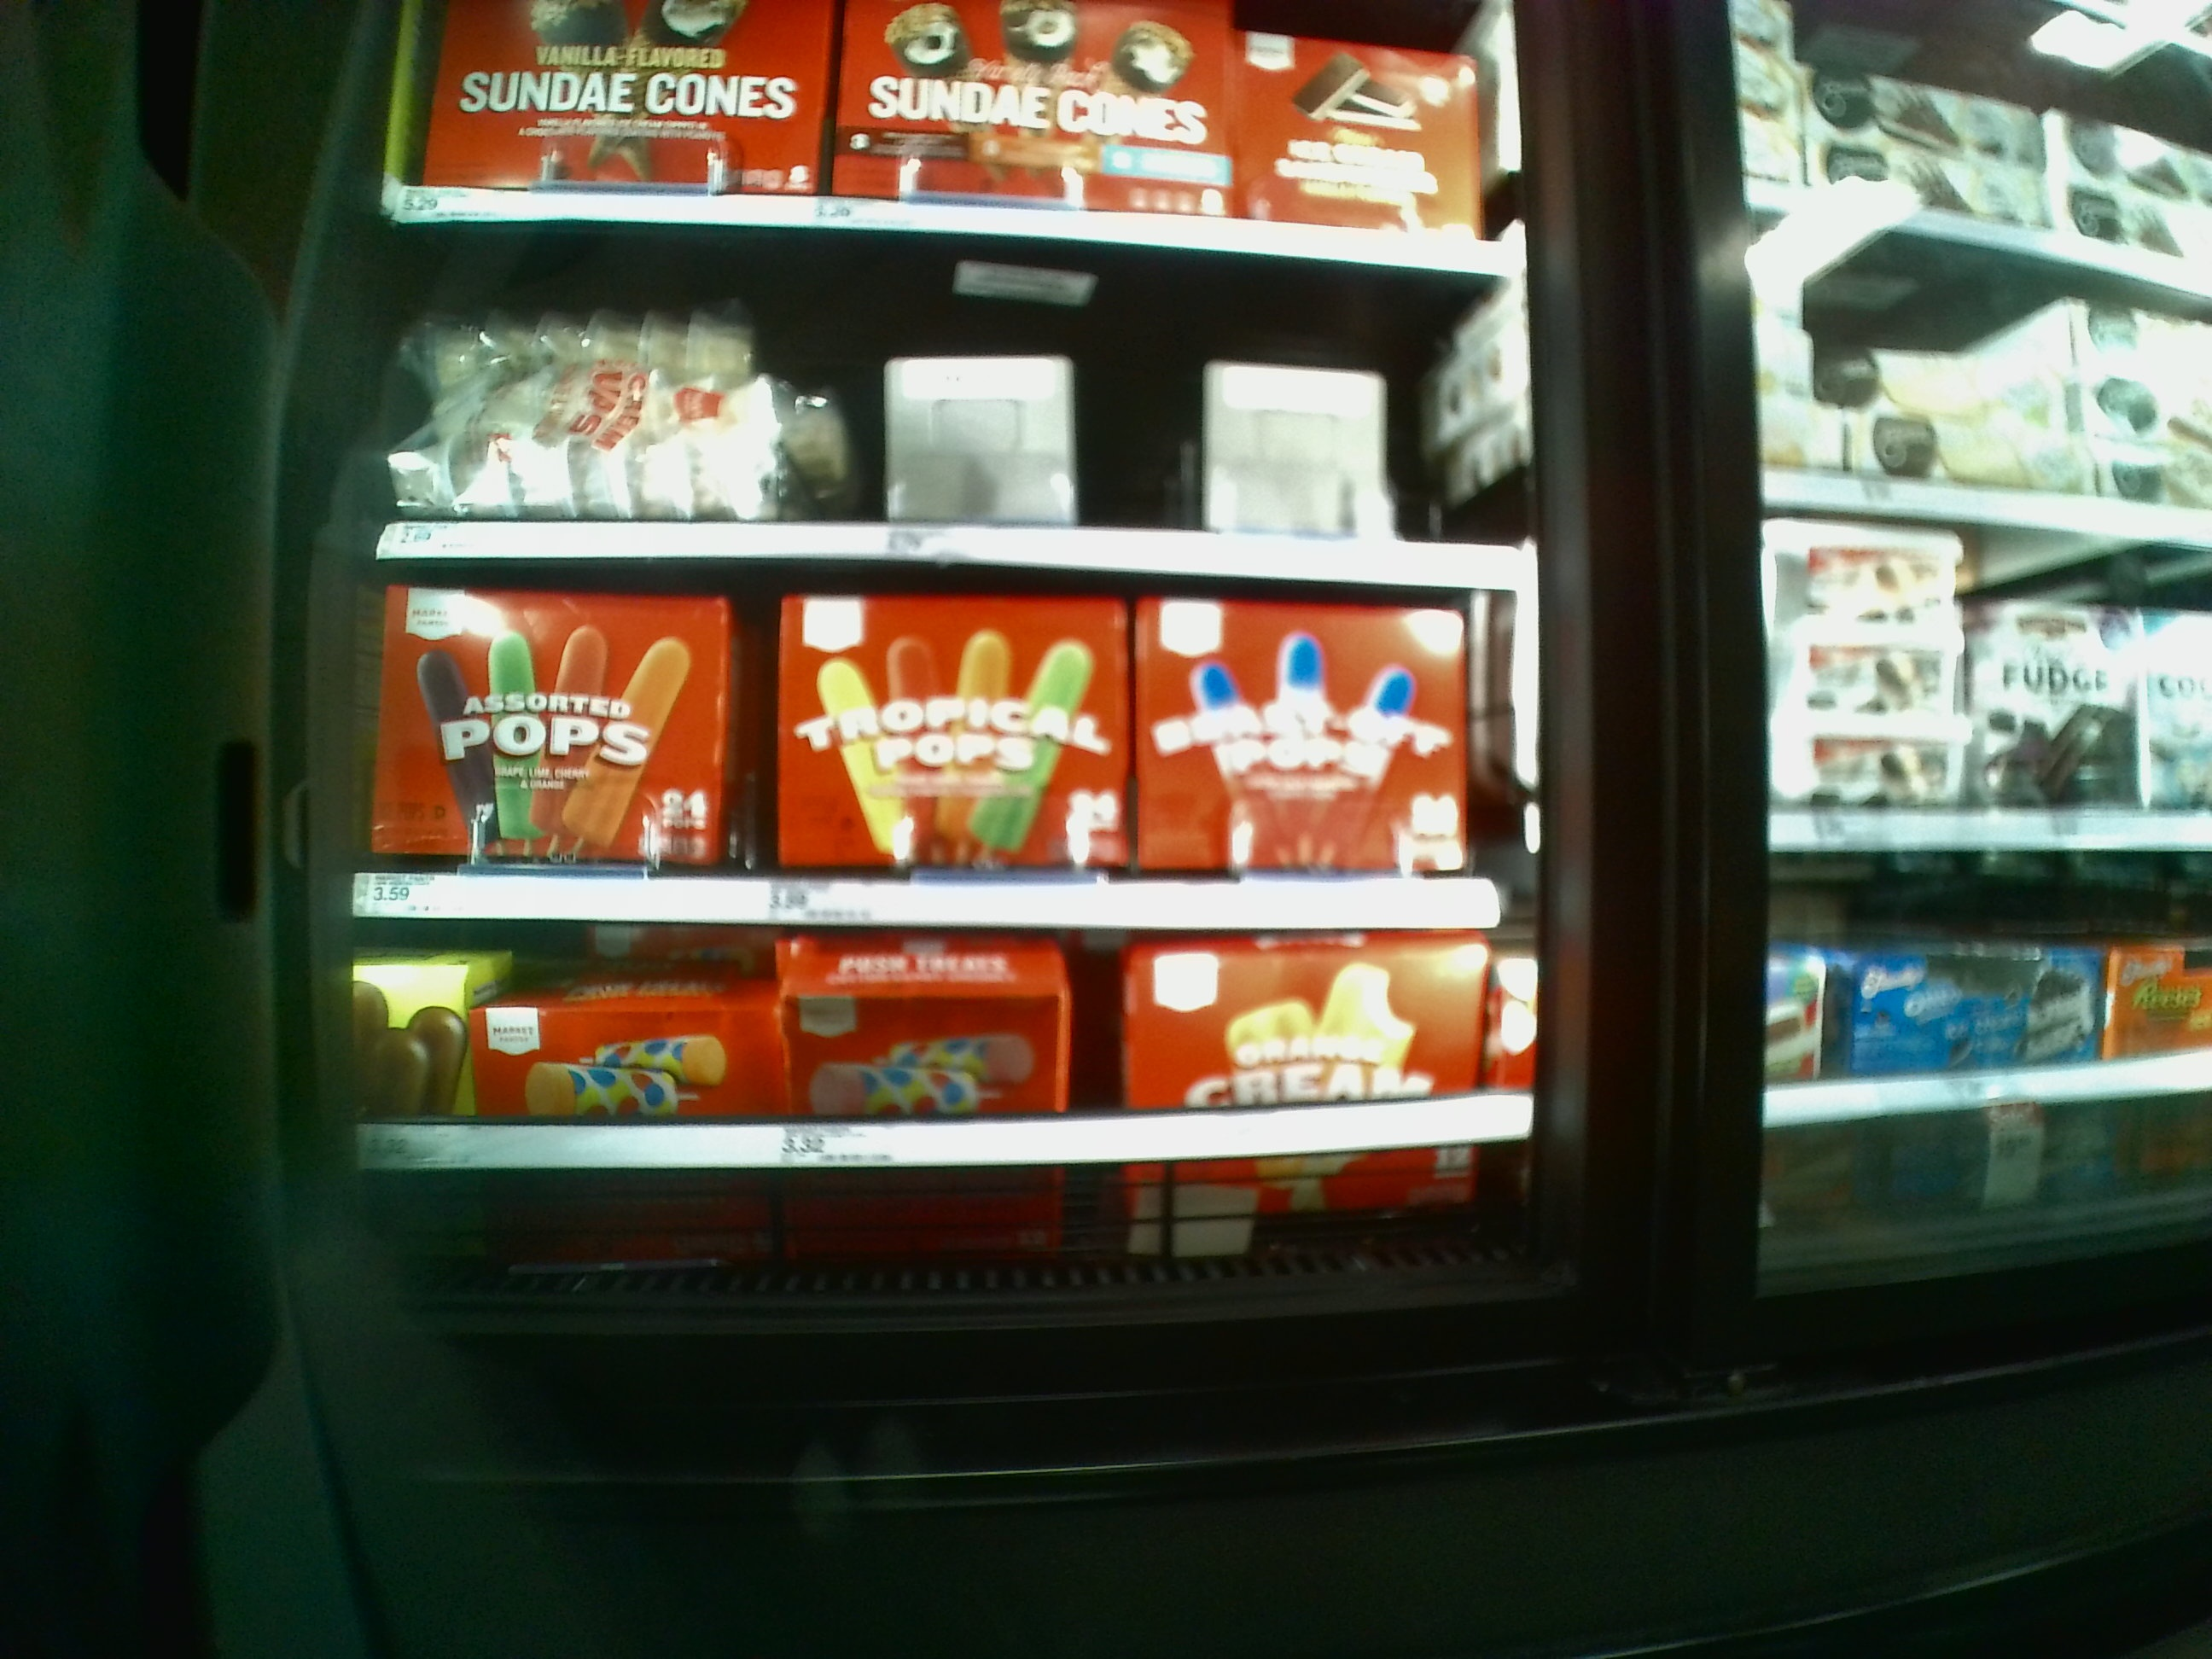shelf: (374, 915, 1534, 1270), (395, 228, 1529, 587), (385, 572, 1512, 929)
